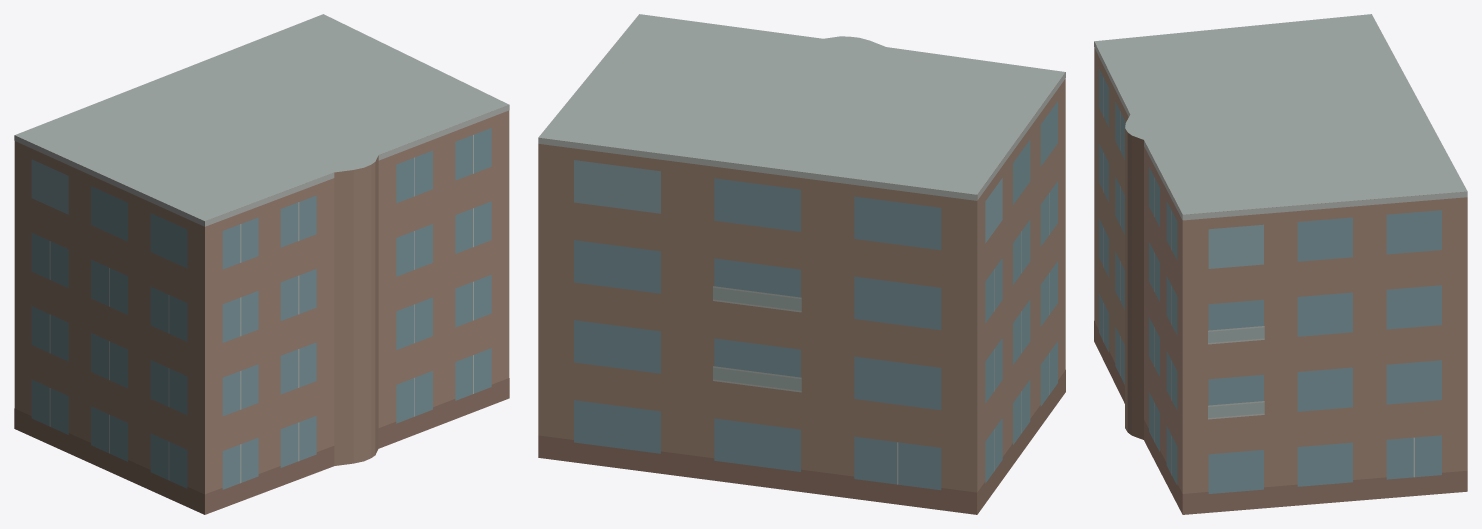
Rendered from survey-upis-32704628.glb.
3 renders of one model, left to right at view 1: azimuth 30°, elevation 25°; view 2: azimuth 150°, elevation 25°; view 3: azimuth 270°, elevation 25°, orthographic. The views are drawn at different scales.
Parts seen in each view (by area): view 1: survey-upis-32704628.tmp; view 2: survey-upis-32704628.tmp; view 3: survey-upis-32704628.tmp.
Boxes of the visible parts, left/top/right/bottom form: survey-upis-32704628.tmp: left=14, top=14, right=509, bottom=514; survey-upis-32704628.tmp: left=538, top=14, right=1065, bottom=514; survey-upis-32704628.tmp: left=1094, top=14, right=1467, bottom=514.
Size of the model in its own units: 18.37 by 12.8 by 14.45.
